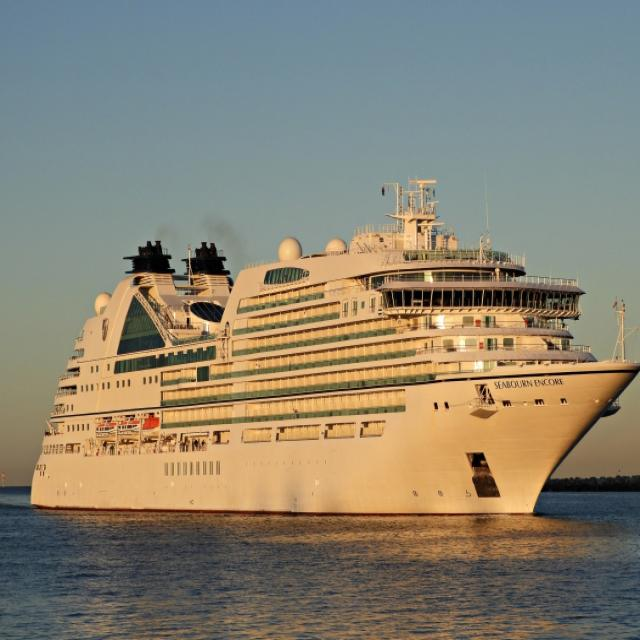cruises: (25, 170, 640, 529)
